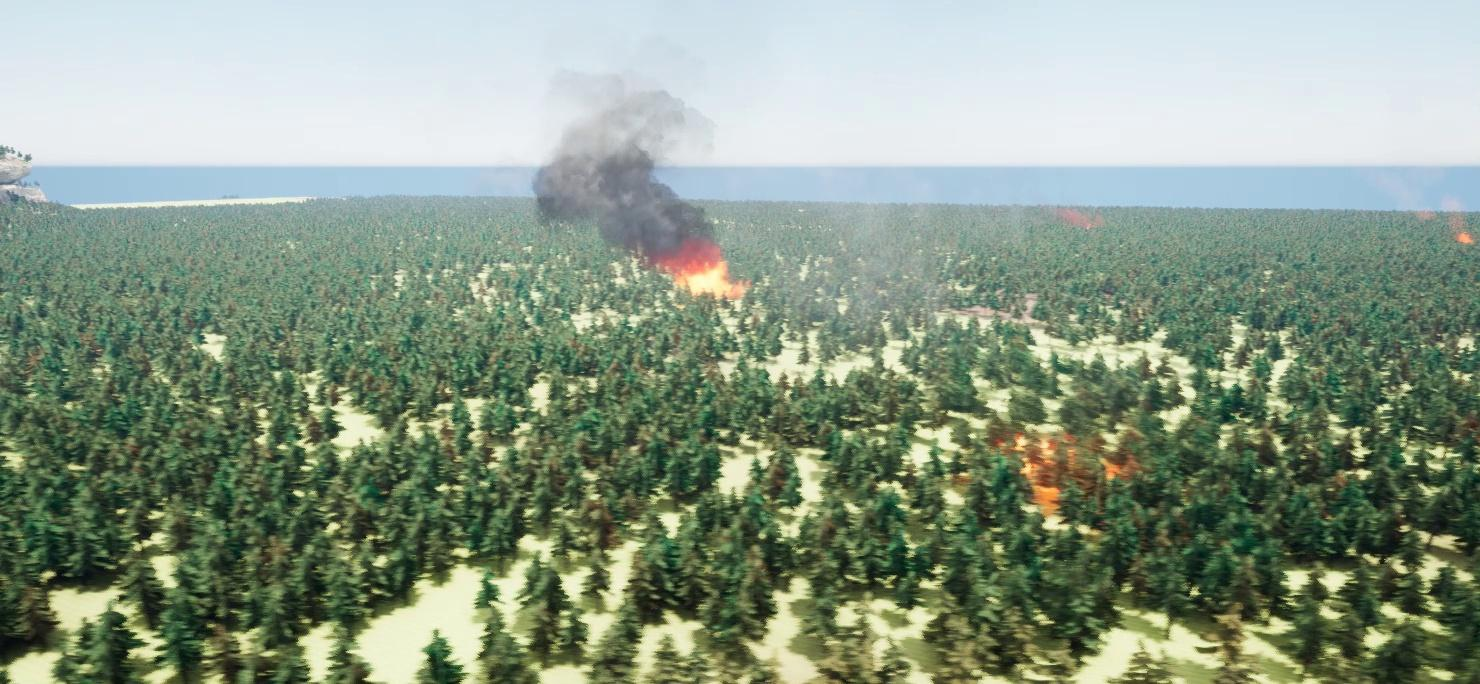fire: (989, 417, 1131, 513), (658, 243, 742, 291)
smoke: (521, 60, 737, 248), (783, 147, 969, 339), (1390, 171, 1475, 245), (1054, 197, 1110, 229)
